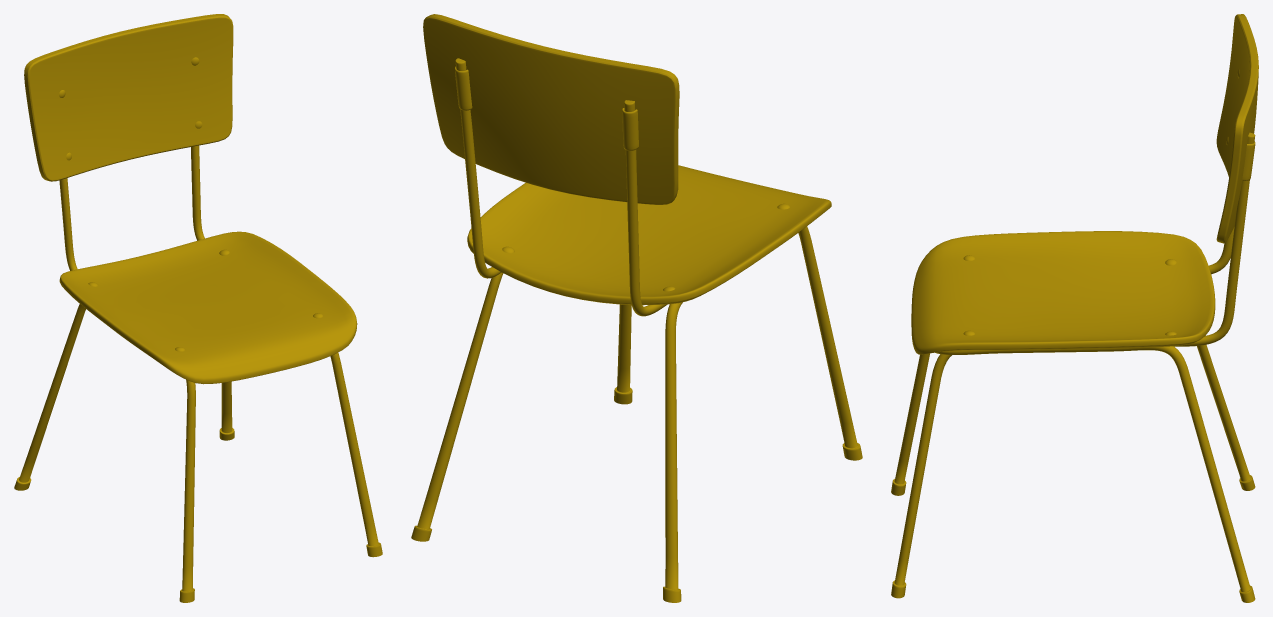
The model's file is trois.gltf.
The picture shows the model from 3 angles, left to right: view 1: azimuth 30°, elevation 25°; view 2: azimuth 150°, elevation 25°; view 3: azimuth 270°, elevation 25°; orthographic projection. The views are drawn at different scales.
Visible parts, largest first — view 1: C_officeChair002_PLY; view 2: C_officeChair002_PLY; view 3: C_officeChair002_PLY.
Part boxes in pixels (<box>): C_officeChair002_PLY: <box>14,14,382,602</box>; C_officeChair002_PLY: <box>411,14,862,602</box>; C_officeChair002_PLY: <box>891,14,1258,602</box>.
Size of the model in its own units: 57.08 by 107 by 74.21.
